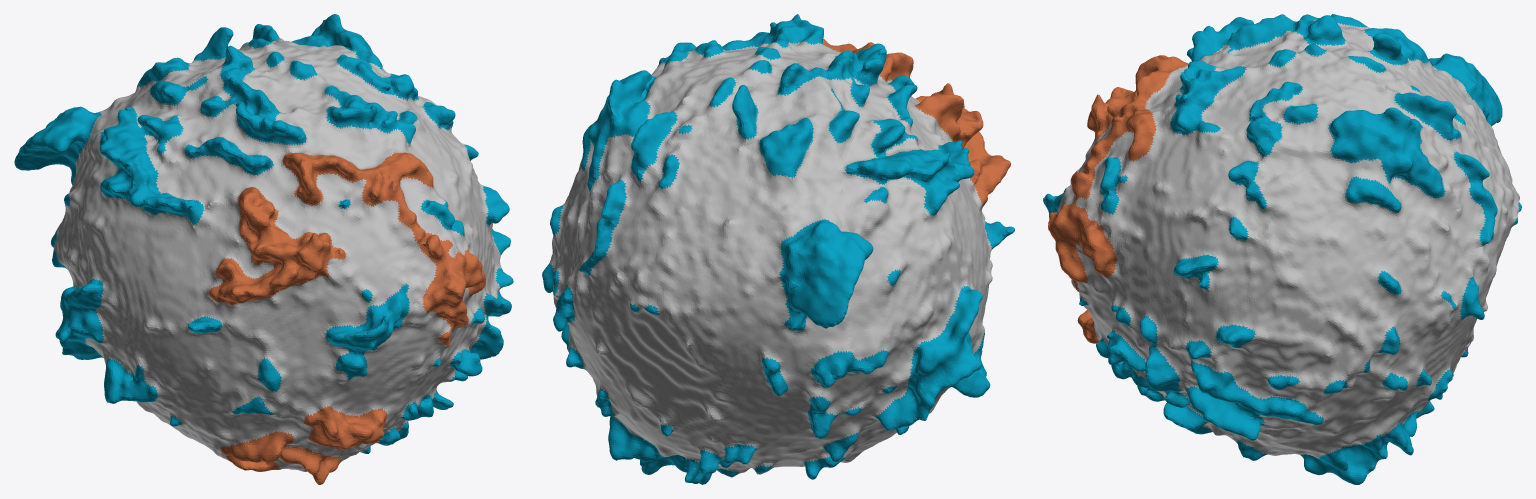
The picture shows the model from 3 angles, left to right: view 1: azimuth 30°, elevation 25°; view 2: azimuth 150°, elevation 25°; view 3: azimuth 270°, elevation 25°; orthographic projection. The views are drawn at different scales.
Bounding box in the file's own units: 158 × 152 × 162.
